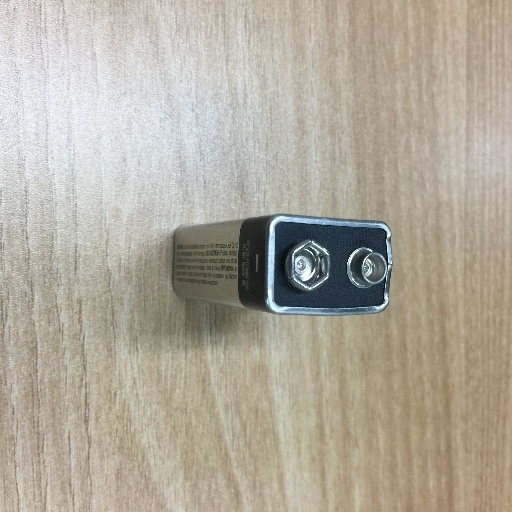Battery_3: (166, 202, 411, 326)
